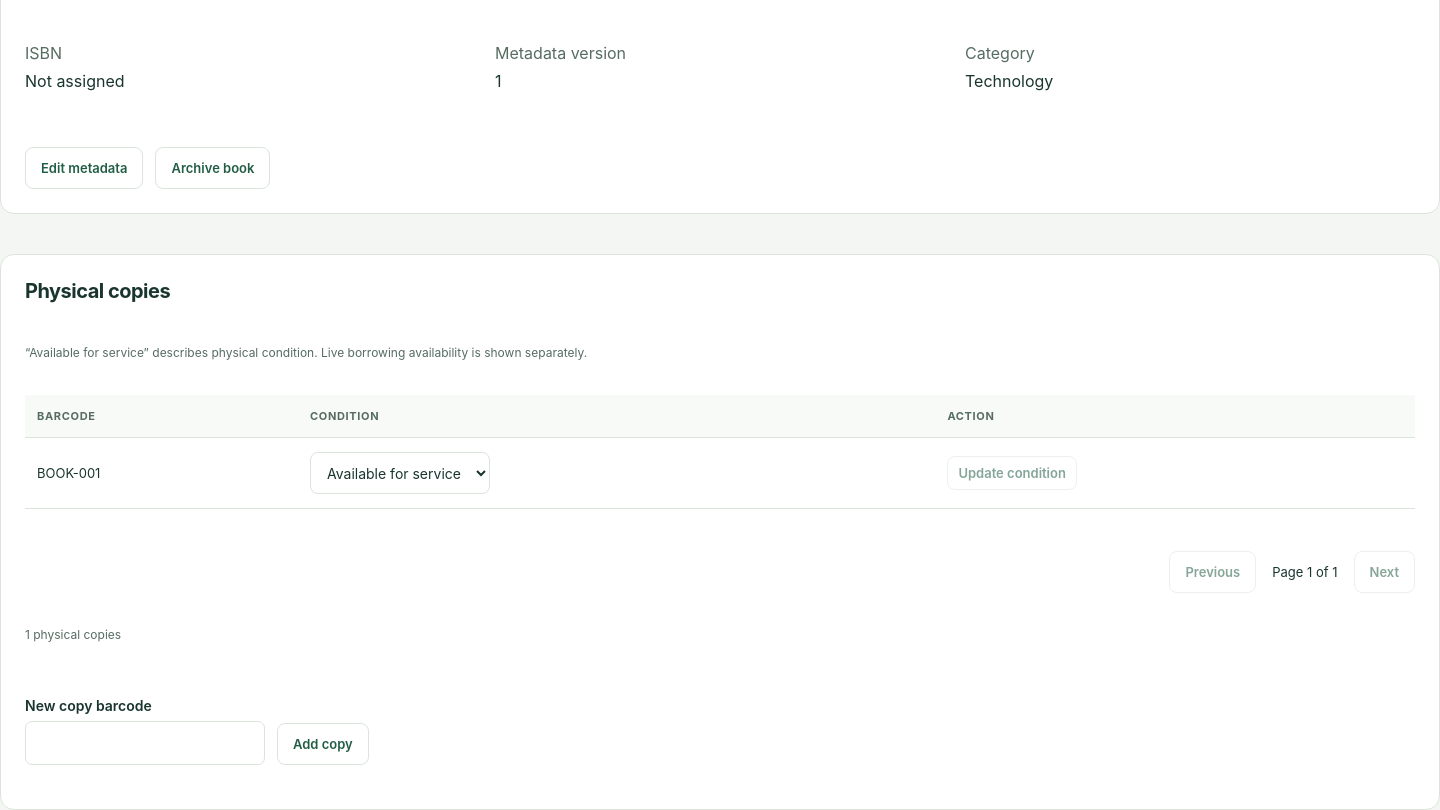
Test: catalog and copy screens › removes cached book details when a copy refresh reveals the resource is no longer visible
(page scrolled)
Select "Maintenance" in the dropdown at (400, 473), box [310,452,490,494]
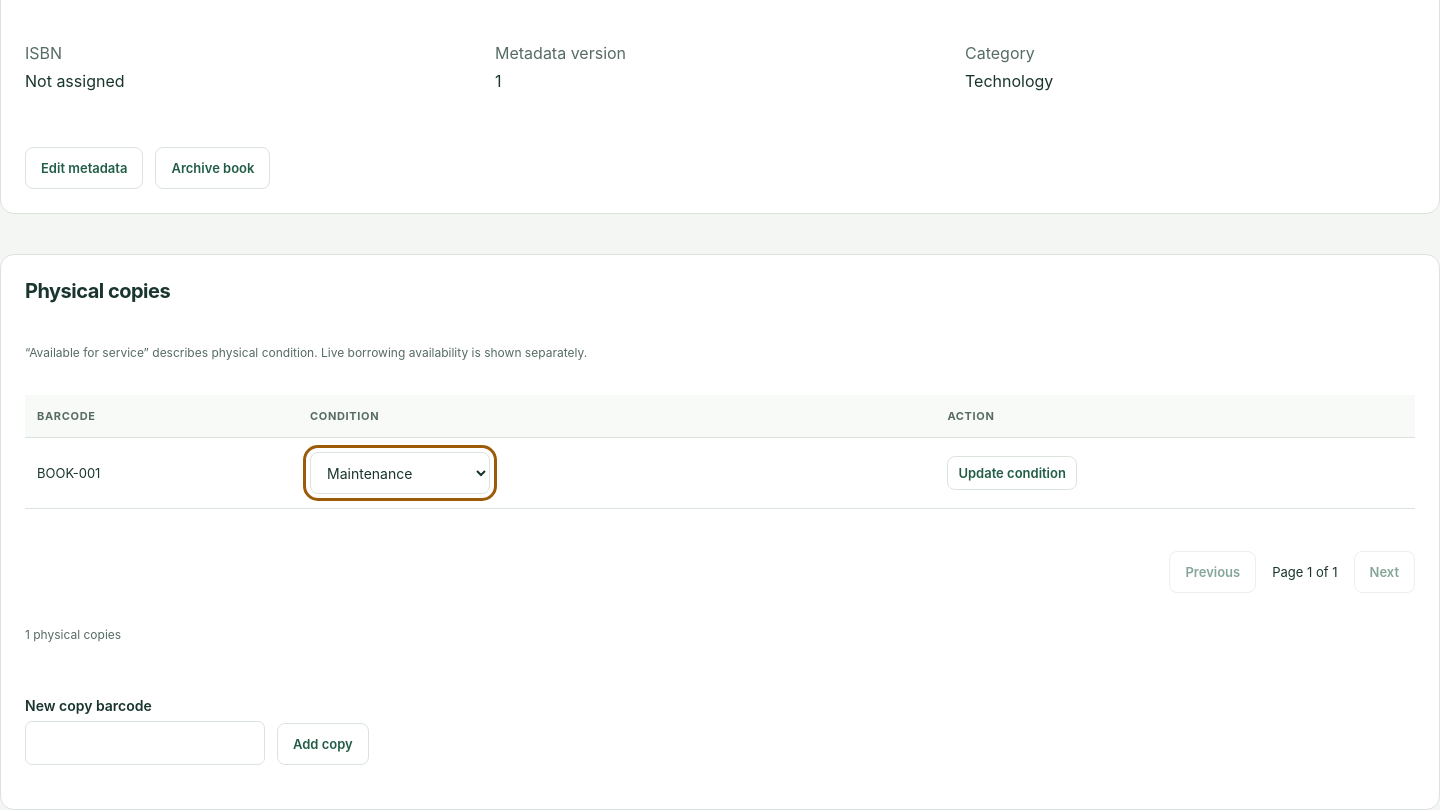
Click the button "Update condition" at (1012, 473), box [947,456,1077,490]
(page scrolled)
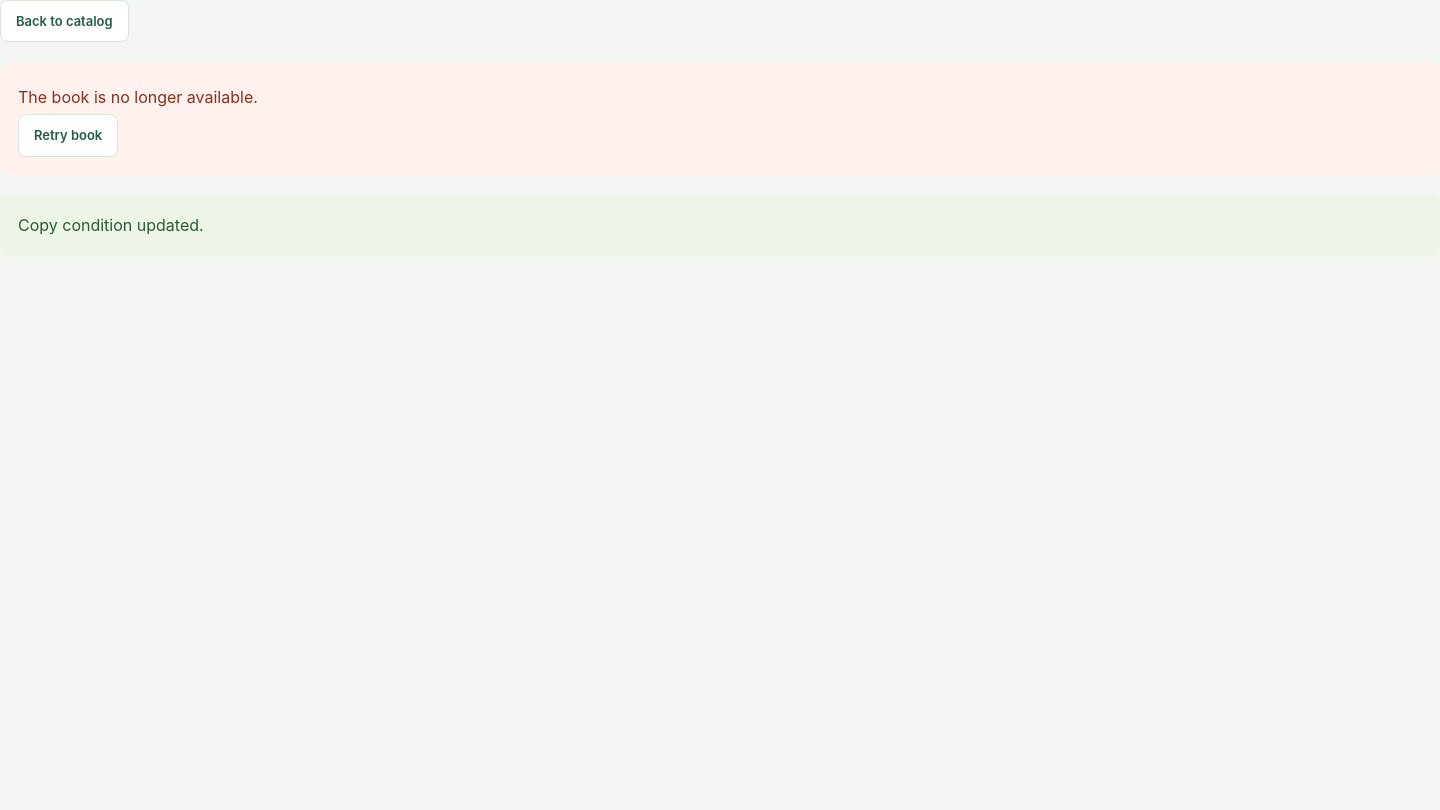
Now the message "The book is no longer available. Retry book" is shown, box [0,62,1439,175]
Now the button "Edit metadata" is gone
